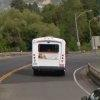Bus: (26, 33, 70, 77)
